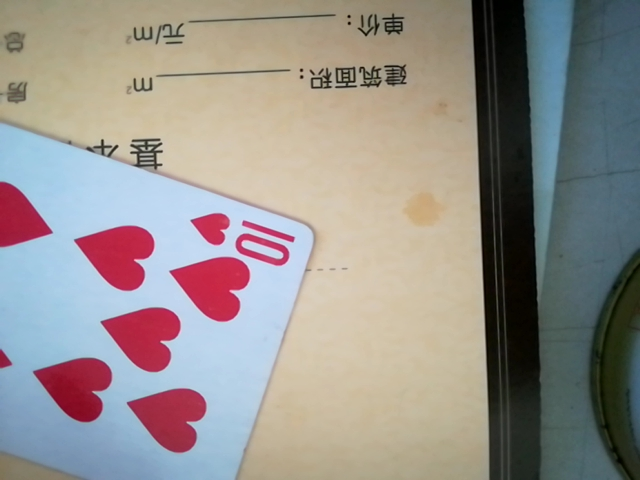hx 10: (1, 73, 320, 476)
